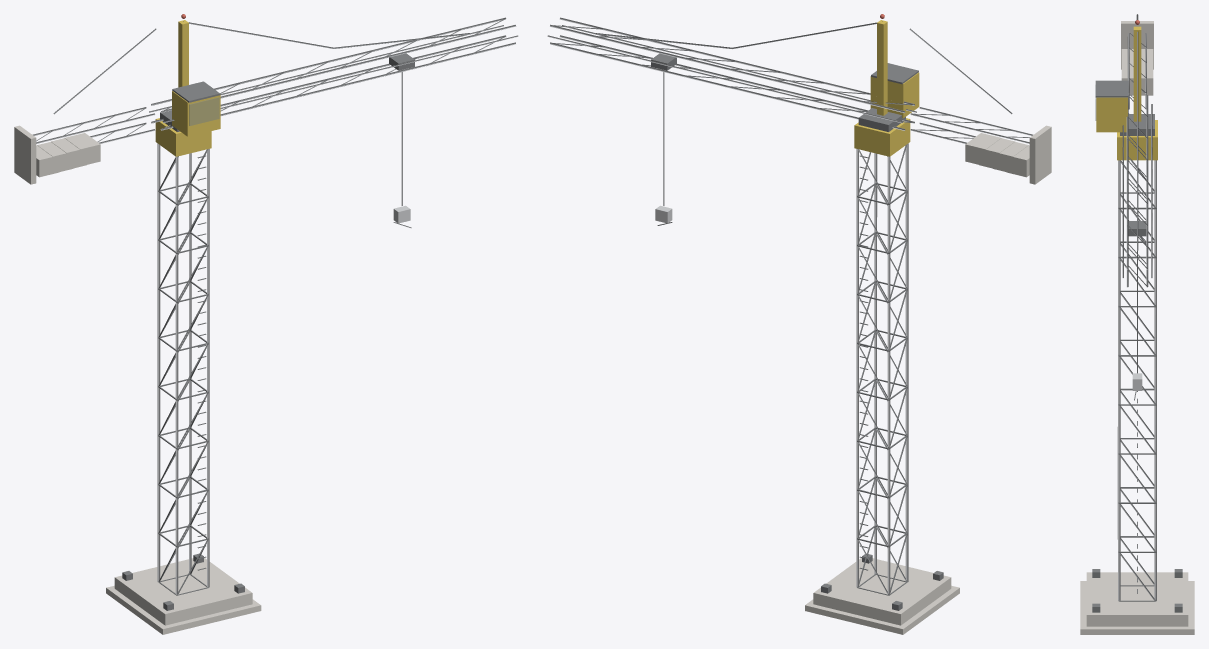
File: crane.glb
The picture shows the model from 3 angles, left to right: view 1: azimuth 30°, elevation 25°; view 2: azimuth 150°, elevation 25°; view 3: azimuth 270°, elevation 25°; orthographic projection.
Parts seen in each view (by area): view 1: darkMetal, metal, concrete, safety, glass; view 2: darkMetal, metal, concrete, safety; view 3: concrete, darkMetal, metal, safety.
Boxes of the visible parts, <box> form: darkMetal: <box>33,18,518,610</box>; metal: <box>32,17,517,594</box>; concrete: <box>14,125,261,634</box>; safety: <box>155,20,220,156</box>; glass: <box>189,97,219,125</box>; darkMetal: <box>547,18,1032,610</box>; metal: <box>548,17,1033,594</box>; concrete: <box>805,125,1051,634</box>; safety: <box>854,20,919,156</box>; concrete: <box>1080,21,1194,634</box>; darkMetal: <box>1092,14,1182,612</box>; metal: <box>1117,33,1156,600</box>; safety: <box>1096,26,1157,160</box>.
Size of the model in its own units: 35.81 by 41.16 by 7.2.
